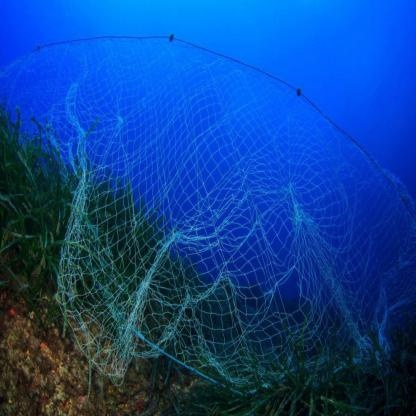net: (35, 49, 413, 378)
